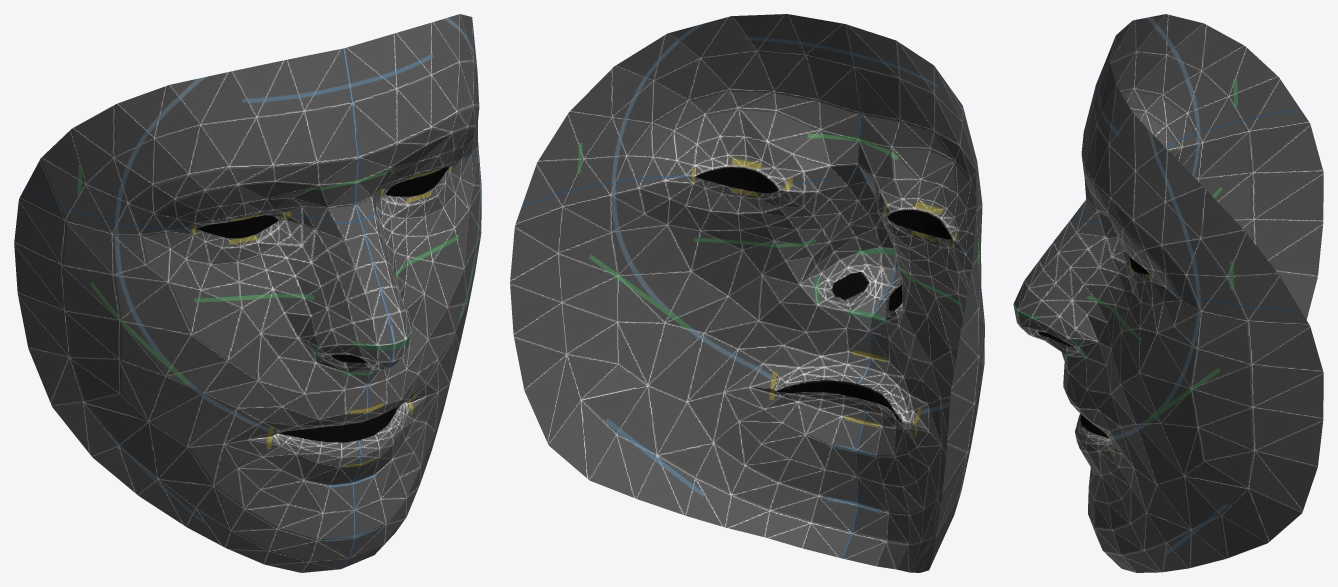
The model's file is canonical_face_with_texture.obj.
3 views of the same model, side by side, from view 1: azimuth 30°, elevation 25°; view 2: azimuth 150°, elevation 25°; view 3: azimuth 270°, elevation 25° (orthographic). The views are drawn at different scales.
Parts seen in each view (by area): view 1: canonical_face_model; view 2: canonical_face_model; view 3: canonical_face_model.
Boxes of the visible parts, bbox=[...] form: canonical_face_model: bbox=[14, 14, 481, 572]; canonical_face_model: bbox=[510, 14, 984, 572]; canonical_face_model: bbox=[1013, 14, 1323, 572].
Bounding box in the file's own units: 15.49 × 17.67 × 10.02.
